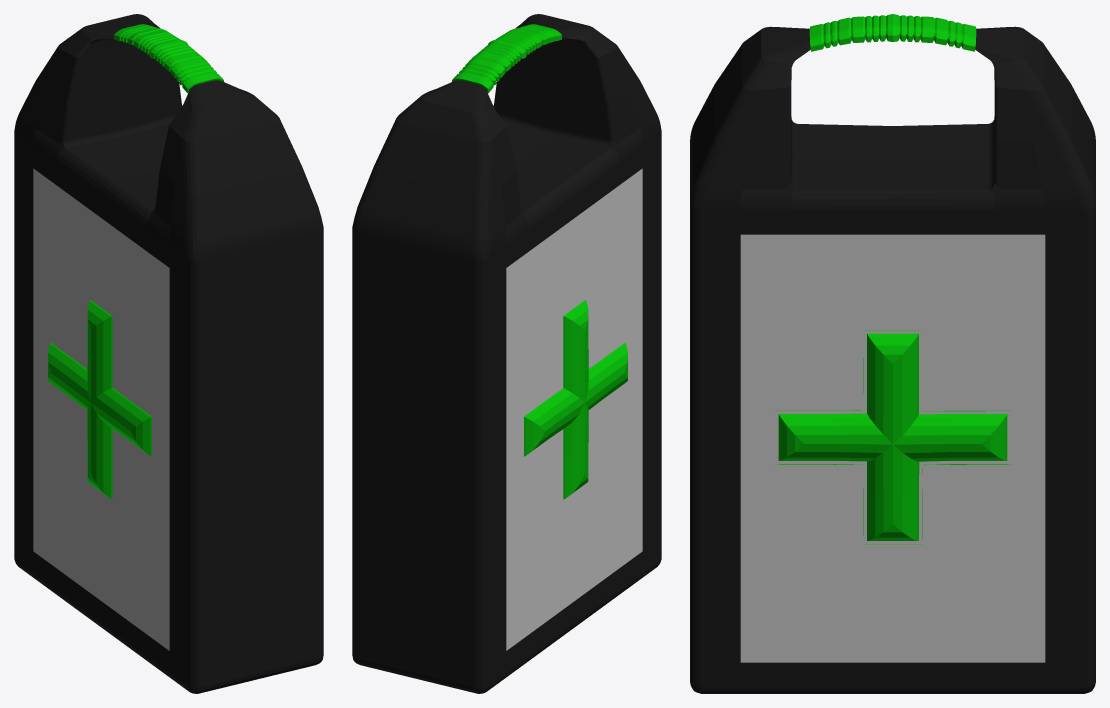
File: Medkit.fbx
3 renders of one model, left to right at view 1: azimuth 30°, elevation 25°; view 2: azimuth 150°, elevation 25°; view 3: azimuth 270°, elevation 25°, orthographic. The views are drawn at different scales.
Parts seen in each view (by area): view 1: CuerpoMedKIt V1, Crus Verde 2; view 2: CuerpoMedKIt V1, Crus Verde 2; view 3: CuerpoMedKIt V1, Crus Verde.
Boxes of the visible parts, box(x1,y1,x2,y2) form: CuerpoMedKIt V1: box(14, 14, 323, 693); Crus Verde 2: box(48, 300, 151, 499); CuerpoMedKIt V1: box(352, 14, 661, 693); Crus Verde 2: box(524, 300, 627, 499); CuerpoMedKIt V1: box(690, 14, 1095, 693); Crus Verde: box(775, 330, 1010, 544).
Size of the model in its own units: 16.47 by 57.25 by 32.85.
Materials: 3 (2 with a texture image).
